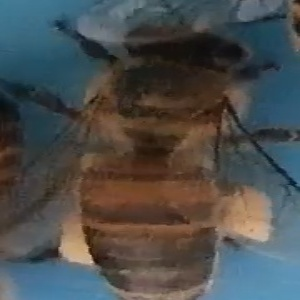bee: (57, 19, 288, 297)
